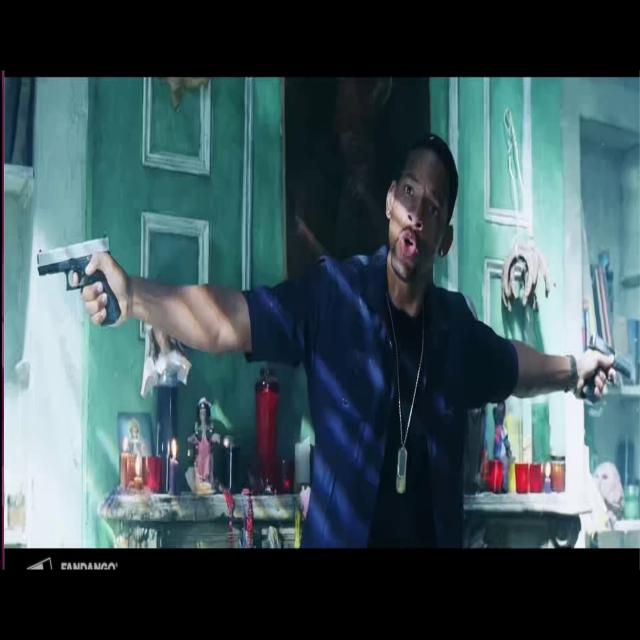weapons: (32, 221, 126, 337), (582, 324, 636, 418)
